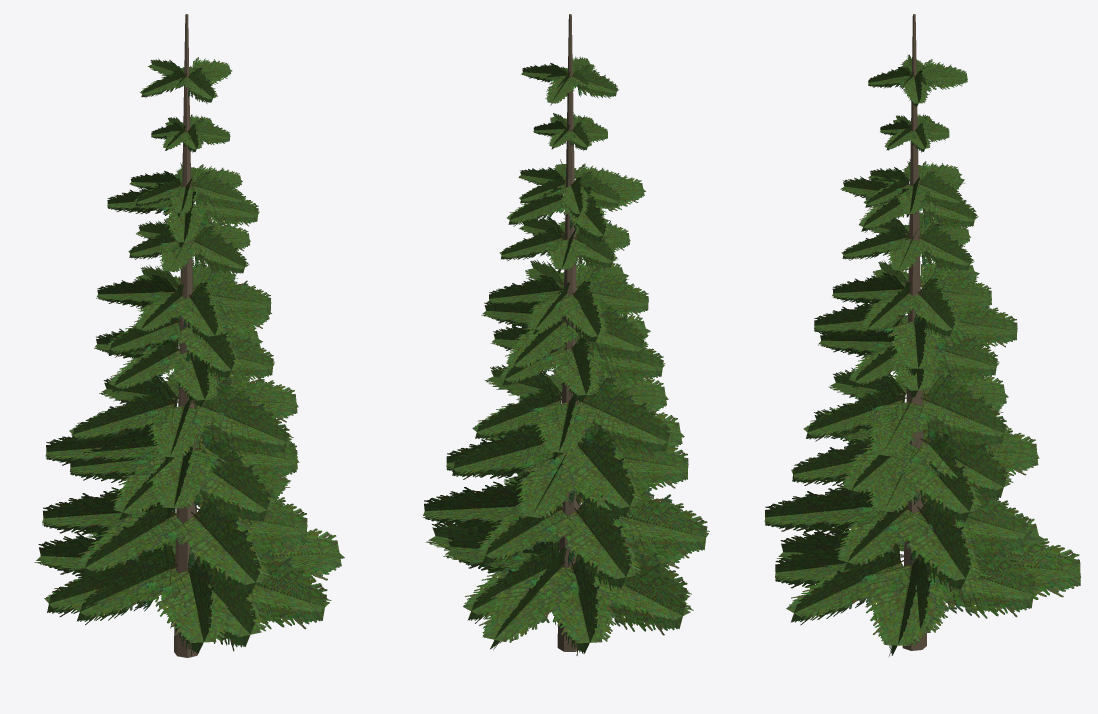
The model's file is botany.glb.
3 renders of one model, left to right at view 1: azimuth 30°, elevation 25°; view 2: azimuth 150°, elevation 25°; view 3: azimuth 270°, elevation 25°, orthographic.
Parts seen in each view (by area): view 1: Cedar_near_needles, Cedar_far_needles, Cedar_far_trunk; view 2: Cedar_near_needles, Cedar_far_needles, Cedar_far_trunk; view 3: Cedar_near_needles, Cedar_far_needles, Cedar_far_trunk.
Part boxes in pixels (bbox=[...]): Cedar_near_needles: bbox=[34, 66, 344, 656]; Cedar_far_needles: bbox=[44, 57, 297, 651]; Cedar_far_trunk: bbox=[174, 14, 197, 657]; Cedar_near_needles: bbox=[422, 64, 709, 655]; Cedar_far_needles: bbox=[443, 56, 693, 650]; Cedar_far_trunk: bbox=[557, 14, 580, 651]; Cedar_near_needles: bbox=[764, 65, 1045, 656]; Cedar_far_needles: bbox=[775, 54, 1080, 646]; Cedar_far_trunk: bbox=[902, 14, 926, 650].
Bounding box in the file's own units: 9.84 × 21 × 9.94.
Materials: 3 (1 with a texture image).
